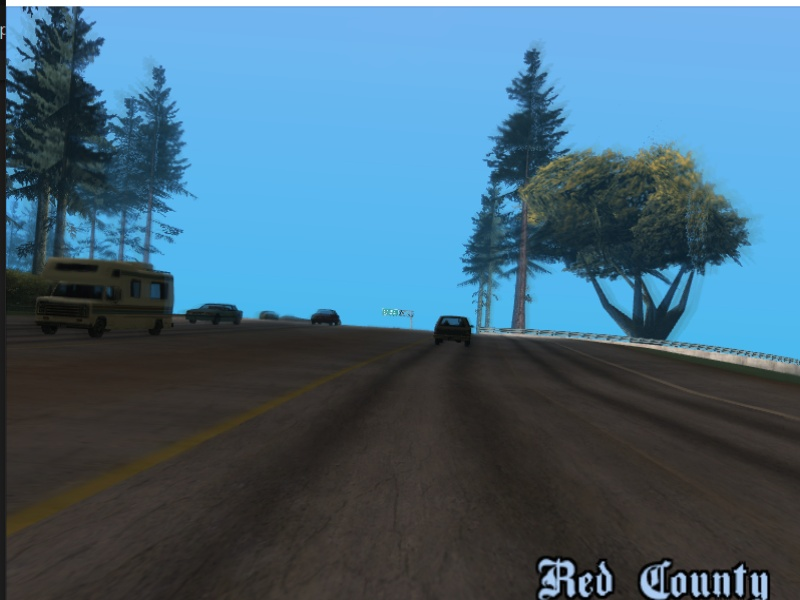vehicle: (40, 253, 176, 338), (185, 301, 242, 328), (431, 312, 473, 346), (307, 306, 343, 328)
